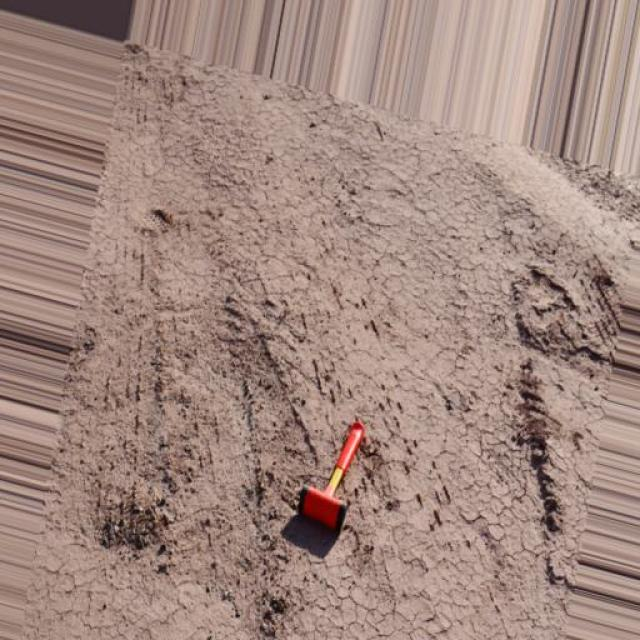mallet: (295, 418, 365, 532)
